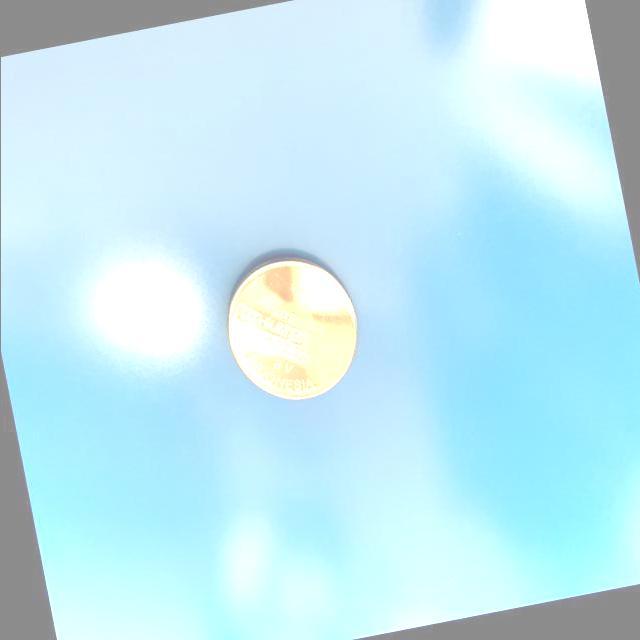COIN: (213, 242, 369, 412)
